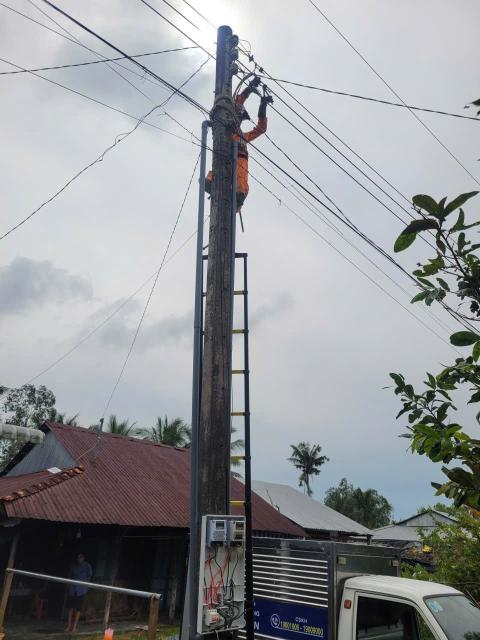gloves: (257, 95, 283, 118), (238, 72, 264, 92)
harness: (210, 137, 271, 163)
helmet: (230, 99, 251, 121)
shoes: (226, 184, 252, 218), (193, 170, 213, 198)
